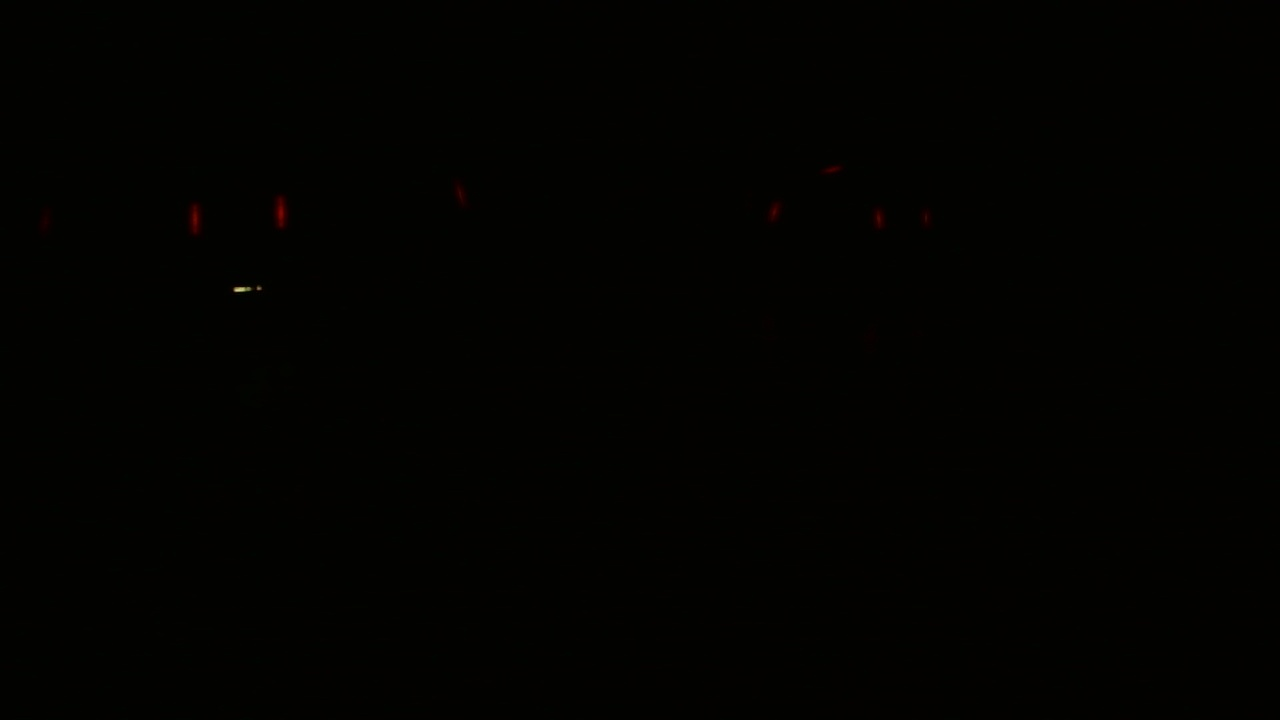pair1: (179, 189, 300, 247), (870, 205, 933, 231)
